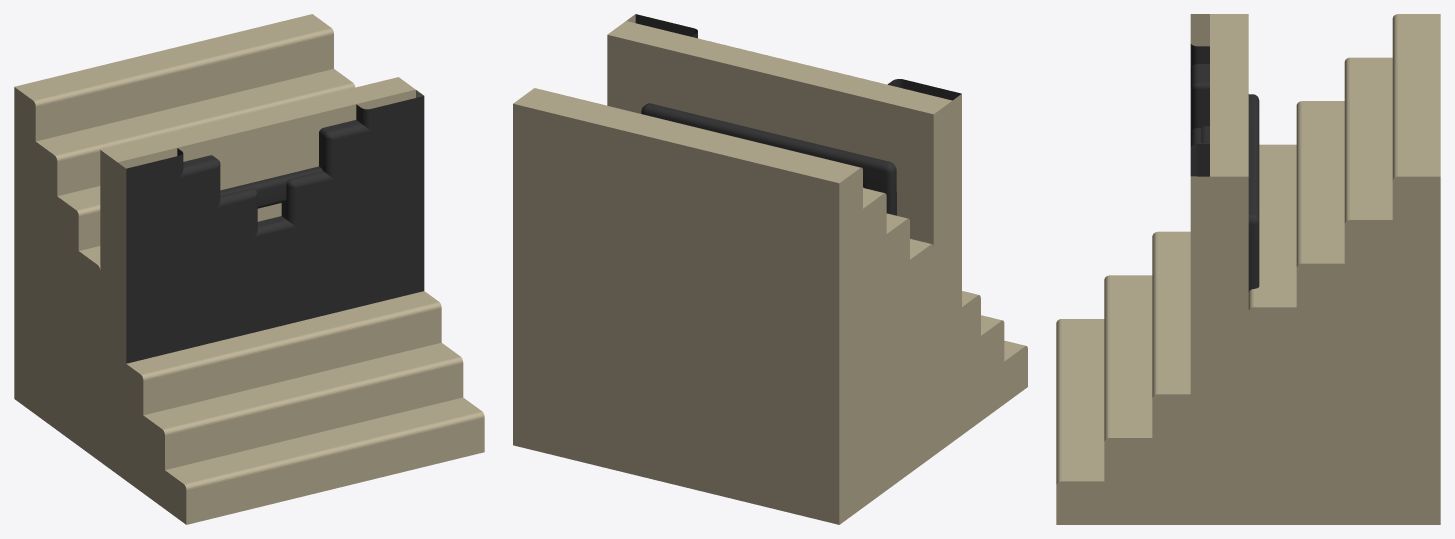
Rendered from AddedWalls1.fbx.
3 renders of one model, left to right at view 1: azimuth 30°, elevation 25°; view 2: azimuth 150°, elevation 25°; view 3: azimuth 270°, elevation 25°, orthographic. The views are drawn at different scales.
Parts seen in each view (by area): view 1: Stairs, FramedWall_StairsRight, FramedWall_StairsLeft, FramedWall_Stairs_TopRight, WallFrame_DoorOpen_DualSided; view 2: Stairs, WallFrame_DoorOpen_DualSided, FramedWall_StairsRight, WallFrame_StairIntro_Left, FramedWall_StairsLeft, FramedWall_Stairs_TopRight, FramedWall_Stairs_TopLeft, WallFrame_StairIntro_Right; view 3: Stairs, FramedWall_Stairs_TopLeft, WallFrame_DoorOpen_DualSided, FramedWall_StairsRight, FramedWall_StairsLeft.
Boxes of the visible parts, x1,y1,x2,y2 form: Stairs: (14,14,484,524); FramedWall_StairsRight: (117,148,366,381); FramedWall_StairsLeft: (109,90,424,480); FramedWall_Stairs_TopRight: (100,77,415,474); WallFrame_DoorOpen_DualSided: (96,81,399,461); Stairs: (513,88,1027,524); WallFrame_DoorOpen_DualSided: (625,25,935,457); FramedWall_StairsRight: (755,71,961,373); WallFrame_StairIntro_Left: (670,52,884,187); FramedWall_StairsLeft: (607,14,961,441); FramedWall_Stairs_TopRight: (607,21,952,455); FramedWall_Stairs_TopLeft: (788,88,952,245); WallFrame_StairIntro_Right: (710,61,908,155); Stairs: (1056,14,1440,524); FramedWall_Stairs_TopLeft: (1210,14,1248,524); WallFrame_DoorOpen_DualSided: (1201,22,1267,524); FramedWall_StairsRight: (1190,14,1227,524); FramedWall_StairsLeft: (1190,143,1248,457).
Bounding box in the file's own units: 6 × 6 × 6.
